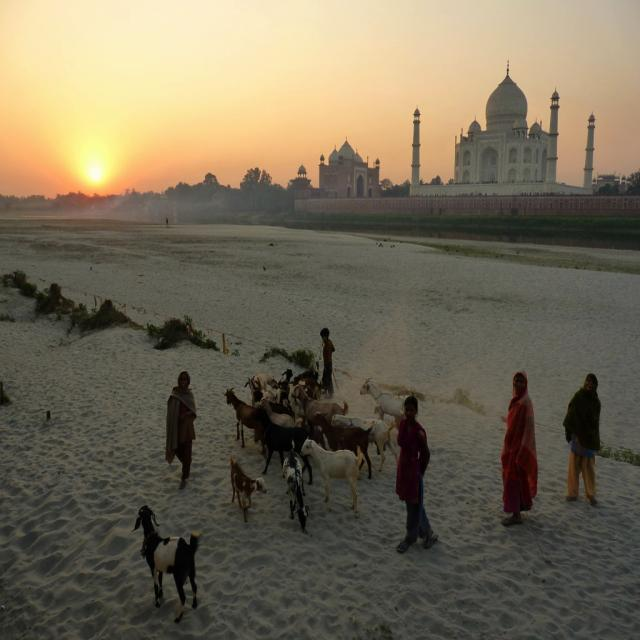Goat: (133, 504, 203, 623), (301, 438, 365, 518), (360, 378, 417, 429), (228, 453, 268, 522), (283, 444, 309, 534)
